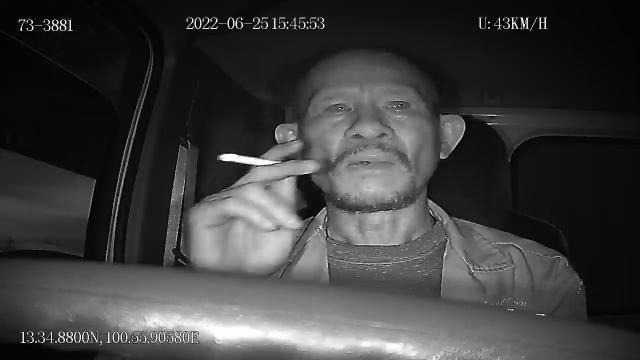SafeDriving: (317, 92, 360, 122), (376, 90, 420, 118)
Smoking: (216, 151, 284, 168)
